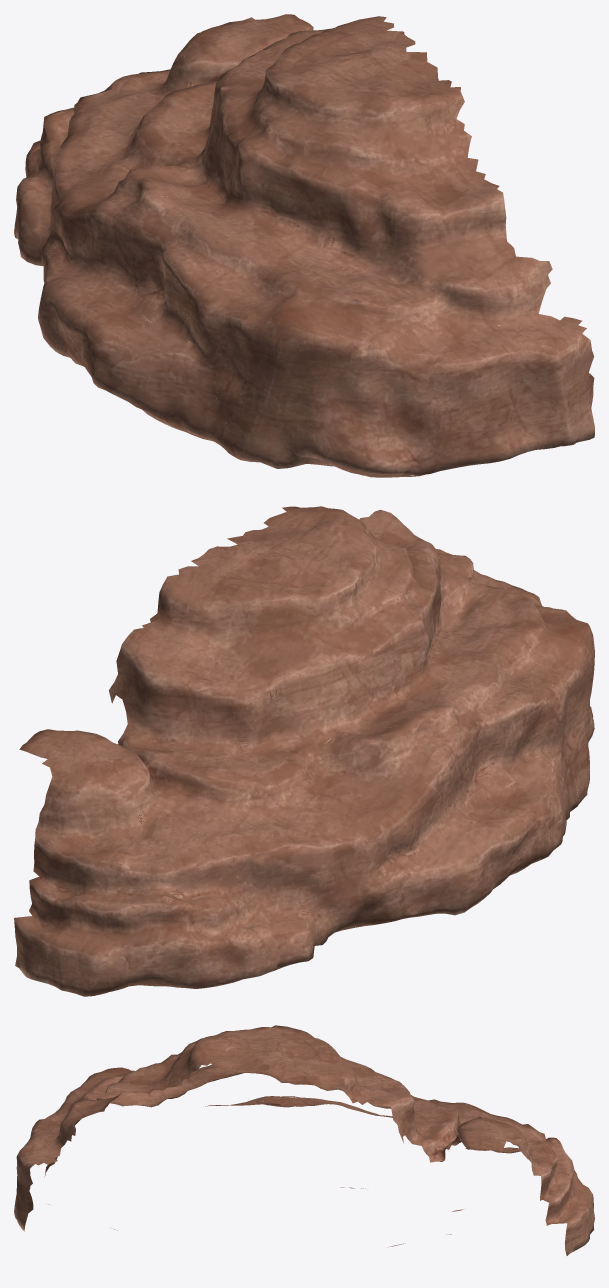
Rendered from scene-cut.glb.
3 renders of one model, top to bottom at view 1: azimuth 30°, elevation 25°; view 2: azimuth 150°, elevation 25°; view 3: azimuth 270°, elevation 25°, orthographic. The views are drawn at different scales.
Visible parts, largest first — view 1: P11DesertCliff-High; view 2: P11DesertCliff-High; view 3: P11DesertCliff-High.
Boxes of the visible parts, <box> form: P11DesertCliff-High: <box>14,14,594,477</box>; P11DesertCliff-High: <box>14,506,594,996</box>; P11DesertCliff-High: <box>14,1025,594,1255</box>.
Size of the model in its own units: 1073 by 856 by 2131.
1 material, 1 textured.
